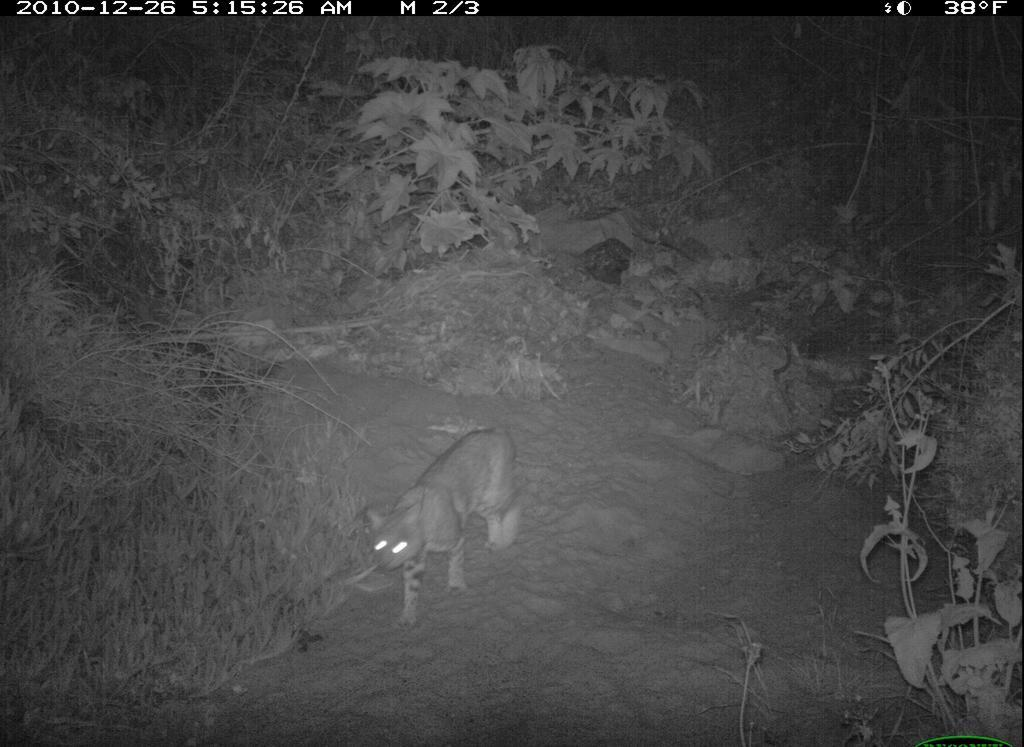bobcat: (329, 422, 536, 642)
